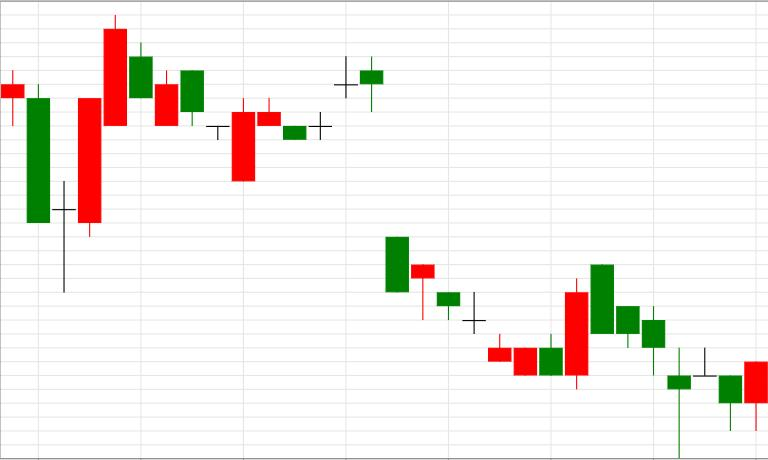bullish_engulfing_rise: (360, 55, 588, 390)
